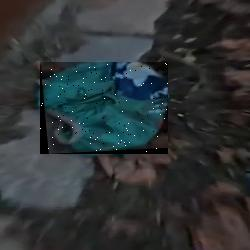plastic: (40, 62, 168, 154)
